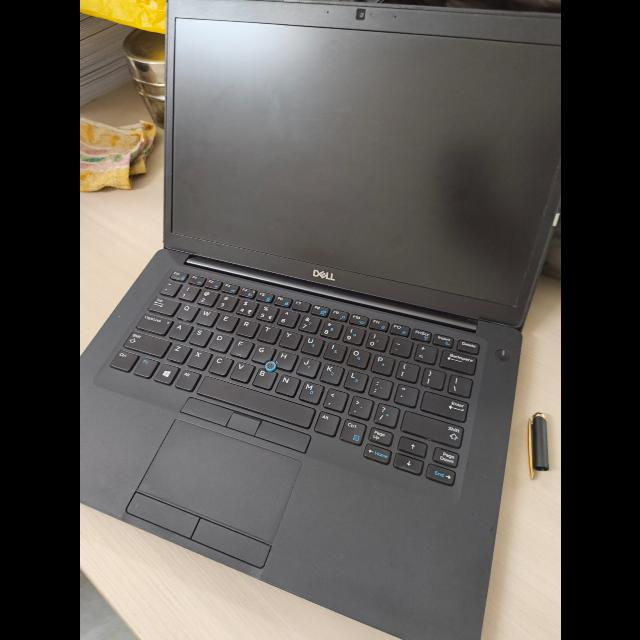laptop: (88, 2, 542, 628)
